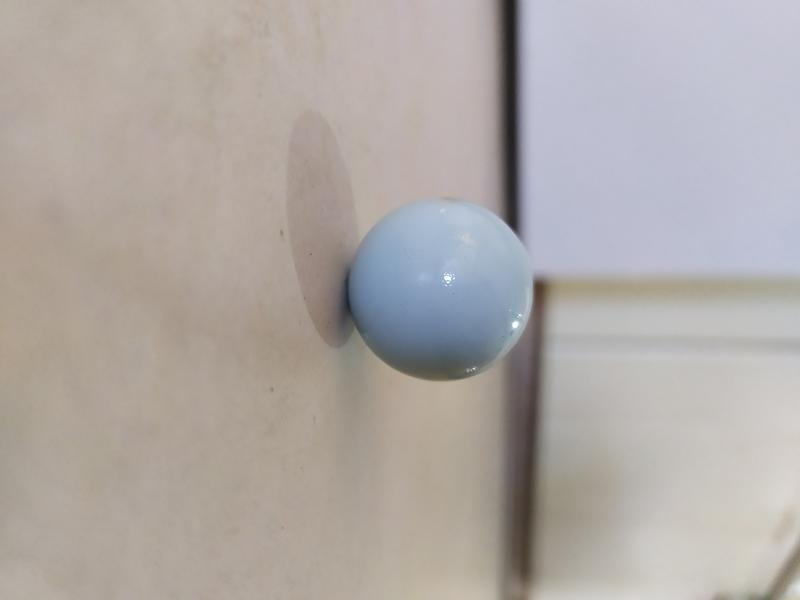Warning: (341, 190, 544, 388)
